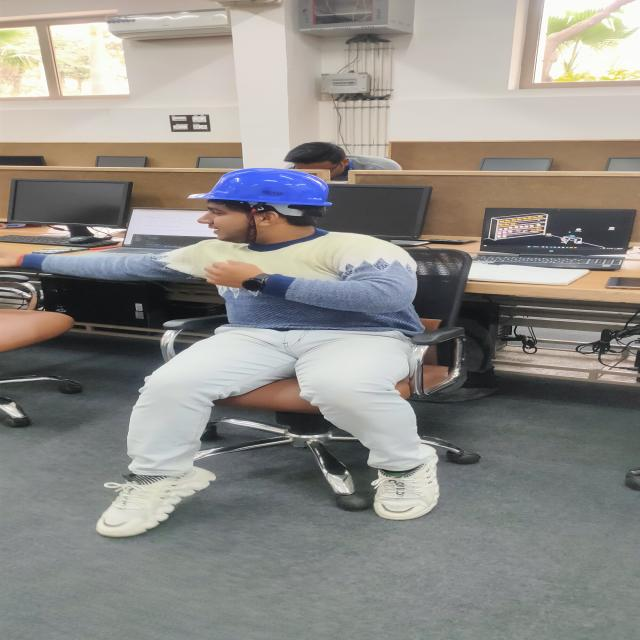no jacket: (94, 168, 443, 539)
